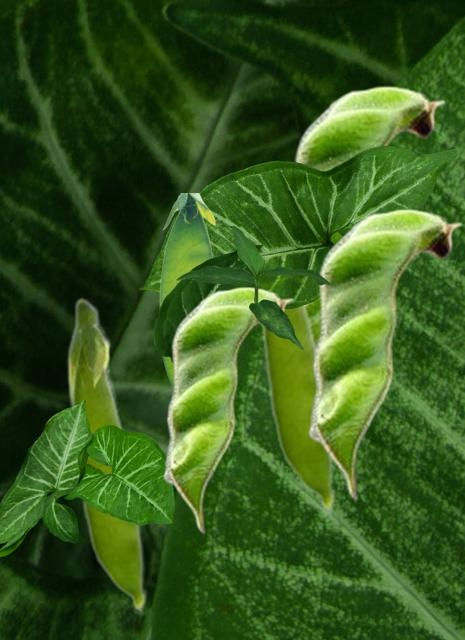pea: (307, 208, 462, 500), (290, 85, 445, 335), (162, 286, 293, 533), (66, 296, 147, 614), (258, 305, 336, 514), (159, 193, 216, 387)
